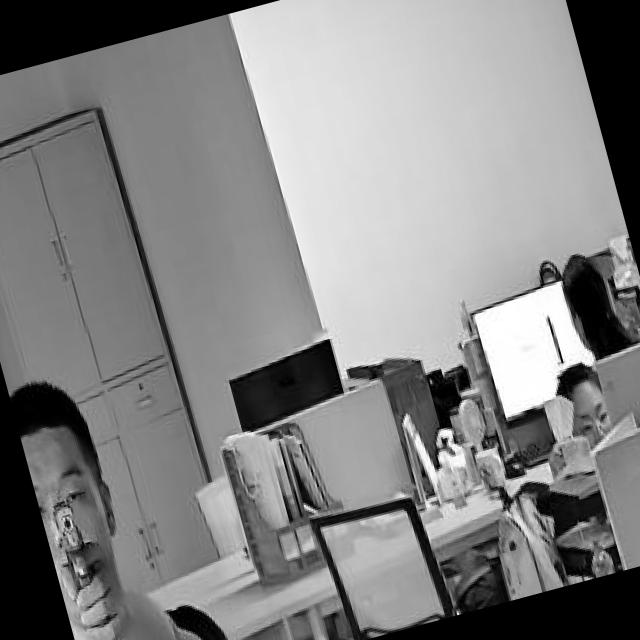Guns: (33, 471, 136, 640)
